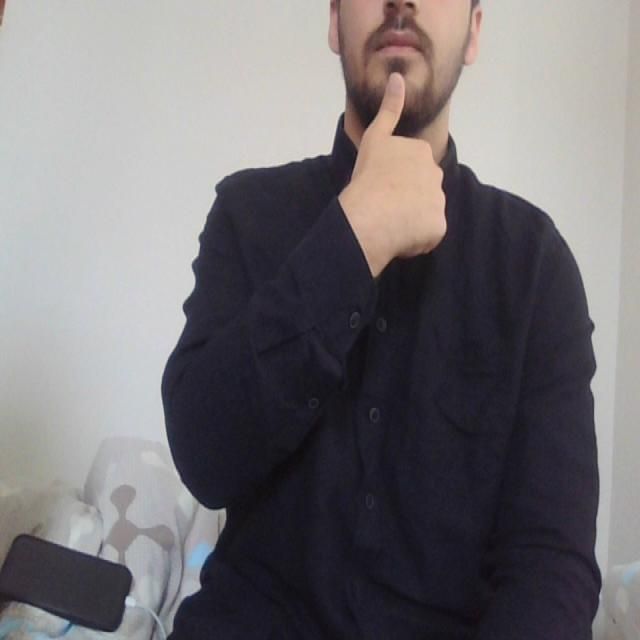Baba: (357, 19, 438, 134)
